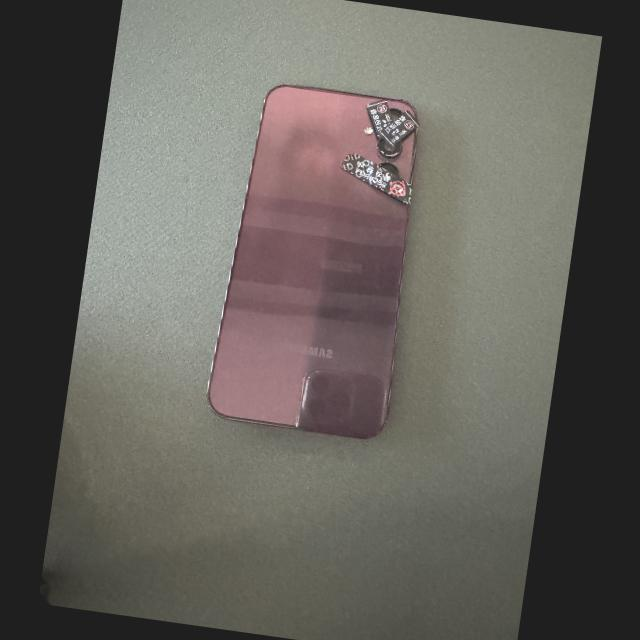lens: (375, 140, 399, 158), (378, 163, 398, 177), (388, 109, 401, 122)
phone: (208, 85, 419, 439)
sticker: (340, 154, 413, 207), (378, 110, 420, 148), (366, 100, 393, 140)
